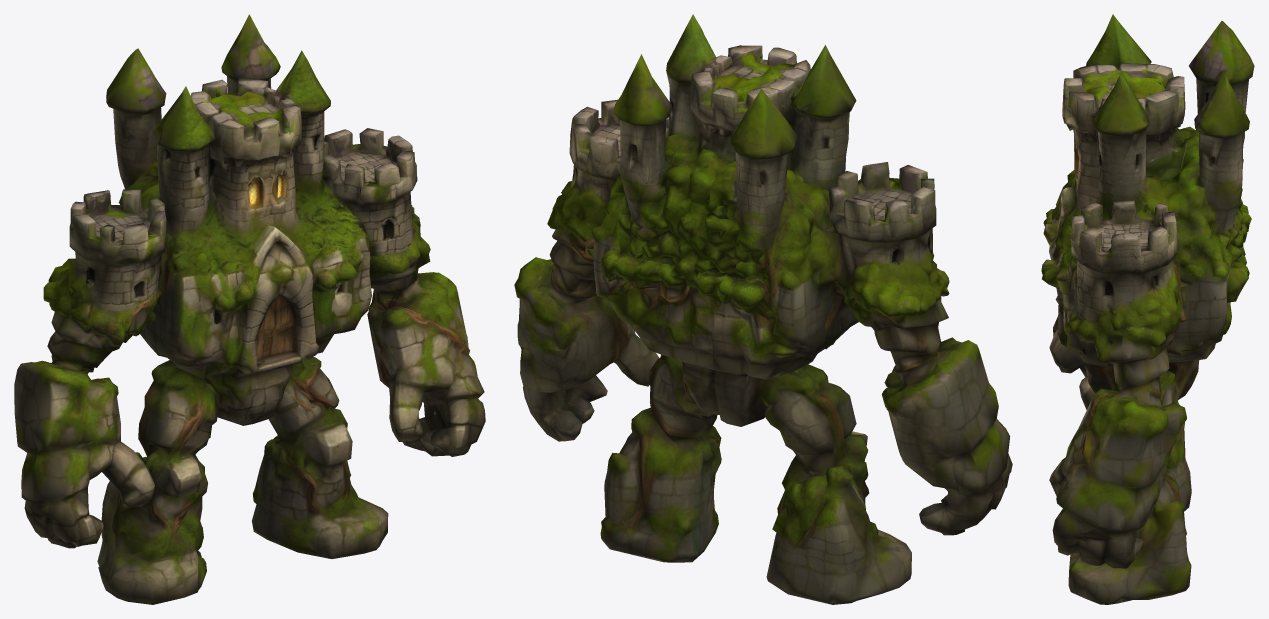
File: mf_gatewarden.glb
The picture shows the model from 3 angles, left to right: view 1: azimuth 30°, elevation 25°; view 2: azimuth 150°, elevation 25°; view 3: azimuth 270°, elevation 25°; orthographic projection. The views are drawn at different scales.
Visible parts, largest first — view 1: Model; view 2: Model; view 3: Model.
Boxes of the visible parts, x1,y1,x2,y2 form: Model: (14, 14, 485, 604); Model: (514, 14, 1012, 604); Model: (1041, 14, 1254, 604).
Bounding box in the file's own units: 1.9 × 2 × 0.7763.
Materials: 1 (1 with a texture image).
